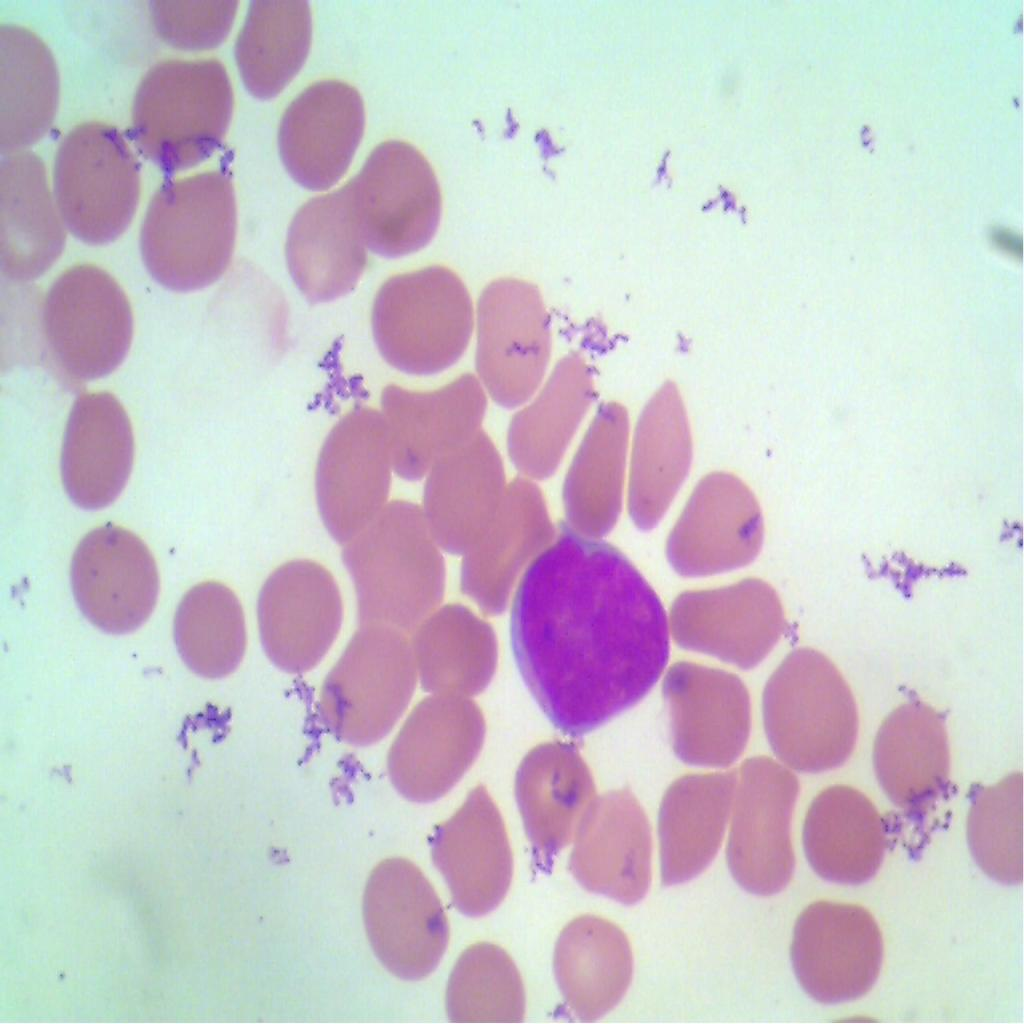Eritrosit: (311, 618, 415, 751), (139, 168, 246, 296), (783, 882, 888, 1011), (429, 788, 530, 922), (346, 138, 456, 261), (760, 648, 866, 771), (363, 262, 475, 374), (59, 521, 162, 642), (51, 117, 144, 251), (246, 554, 346, 678), (268, 185, 369, 307), (670, 568, 786, 674), (311, 397, 395, 542), (378, 688, 484, 802), (38, 265, 136, 388), (664, 465, 764, 585), (458, 482, 551, 610), (128, 51, 238, 158), (359, 847, 451, 974), (873, 682, 956, 821), (508, 349, 596, 478), (569, 781, 661, 903), (538, 900, 638, 1012), (724, 758, 802, 900), (353, 500, 446, 618), (655, 762, 745, 883), (563, 394, 634, 547), (662, 658, 758, 768), (794, 782, 894, 887), (218, 0, 328, 95), (273, 78, 363, 194), (54, 394, 138, 517), (628, 378, 694, 531), (473, 271, 549, 402), (171, 564, 244, 698), (0, 150, 69, 284), (424, 429, 501, 545), (504, 742, 595, 840), (384, 375, 486, 462), (438, 932, 530, 1023), (414, 605, 495, 694)
Limfoblast: (503, 528, 671, 735)
